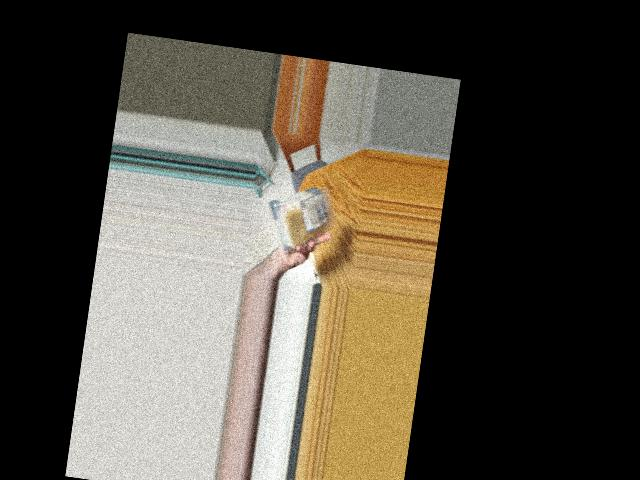cheese: (267, 176, 332, 255)
